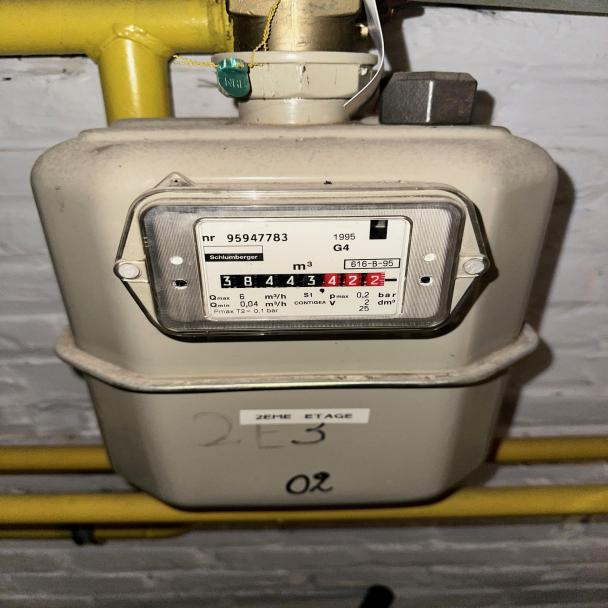2: (366, 272, 387, 288), (344, 273, 366, 288)
3: (300, 272, 322, 288), (217, 272, 238, 288)
4: (262, 272, 280, 288), (325, 272, 342, 288), (281, 273, 299, 288)
8: (239, 272, 261, 288)
cm: (324, 271, 392, 290)
counter: (215, 272, 324, 290)
